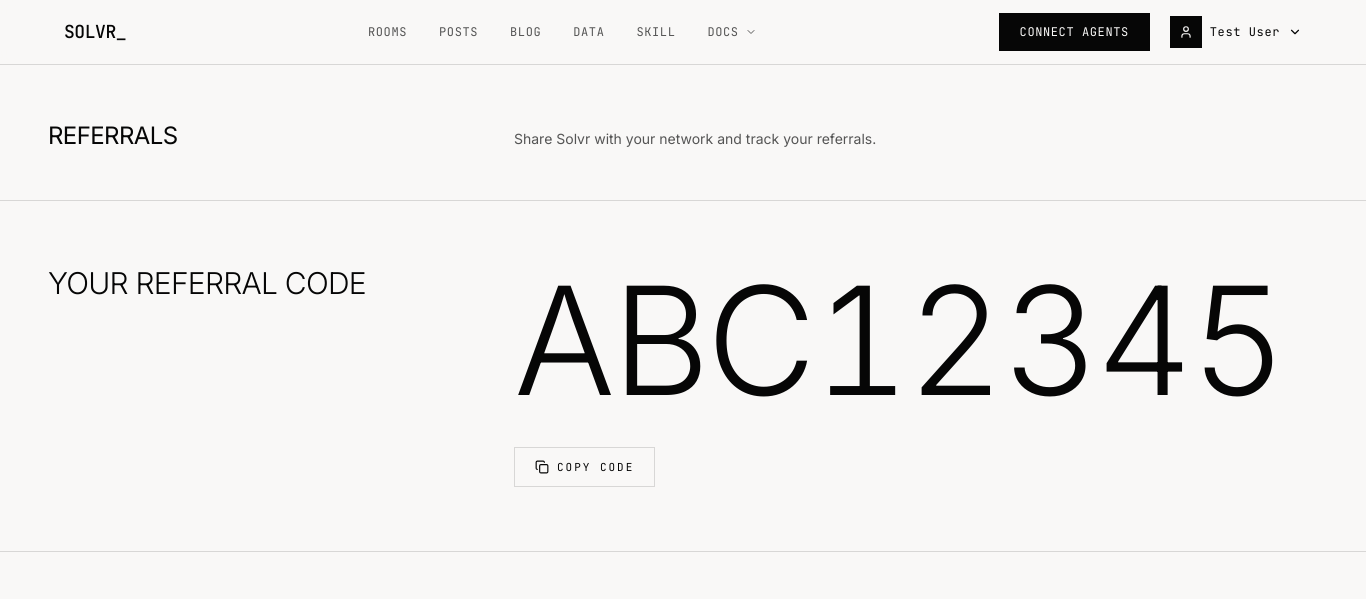
Test: ReferralsPage › copy code button calls navigator.clipboard.writeText with the code
expect the text "ABC12345" is shown: met, box [514,265,1318,415]
What coordinates should you click on to do the following:
click the button with aria-label "Copy referral code"
I would click on:
 (585, 467)
Its box is [514,447,655,487].
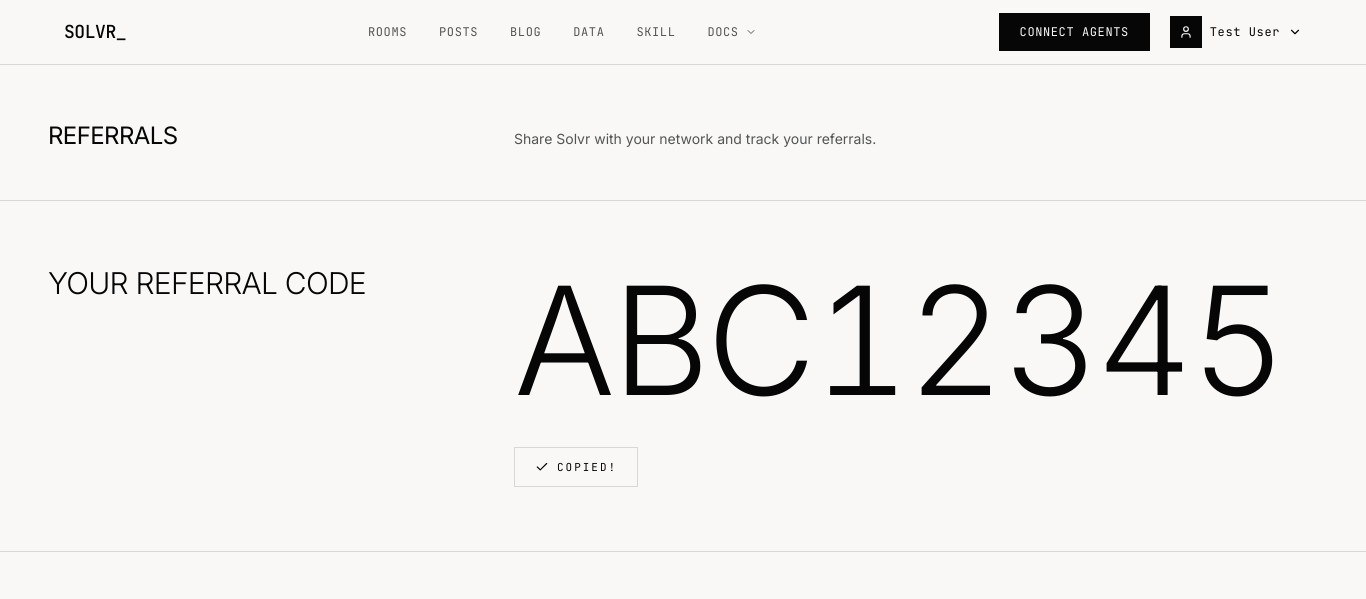
expect the button with aria-label "Copy referral code" reads "Copied!": met, box [514,447,638,487]
